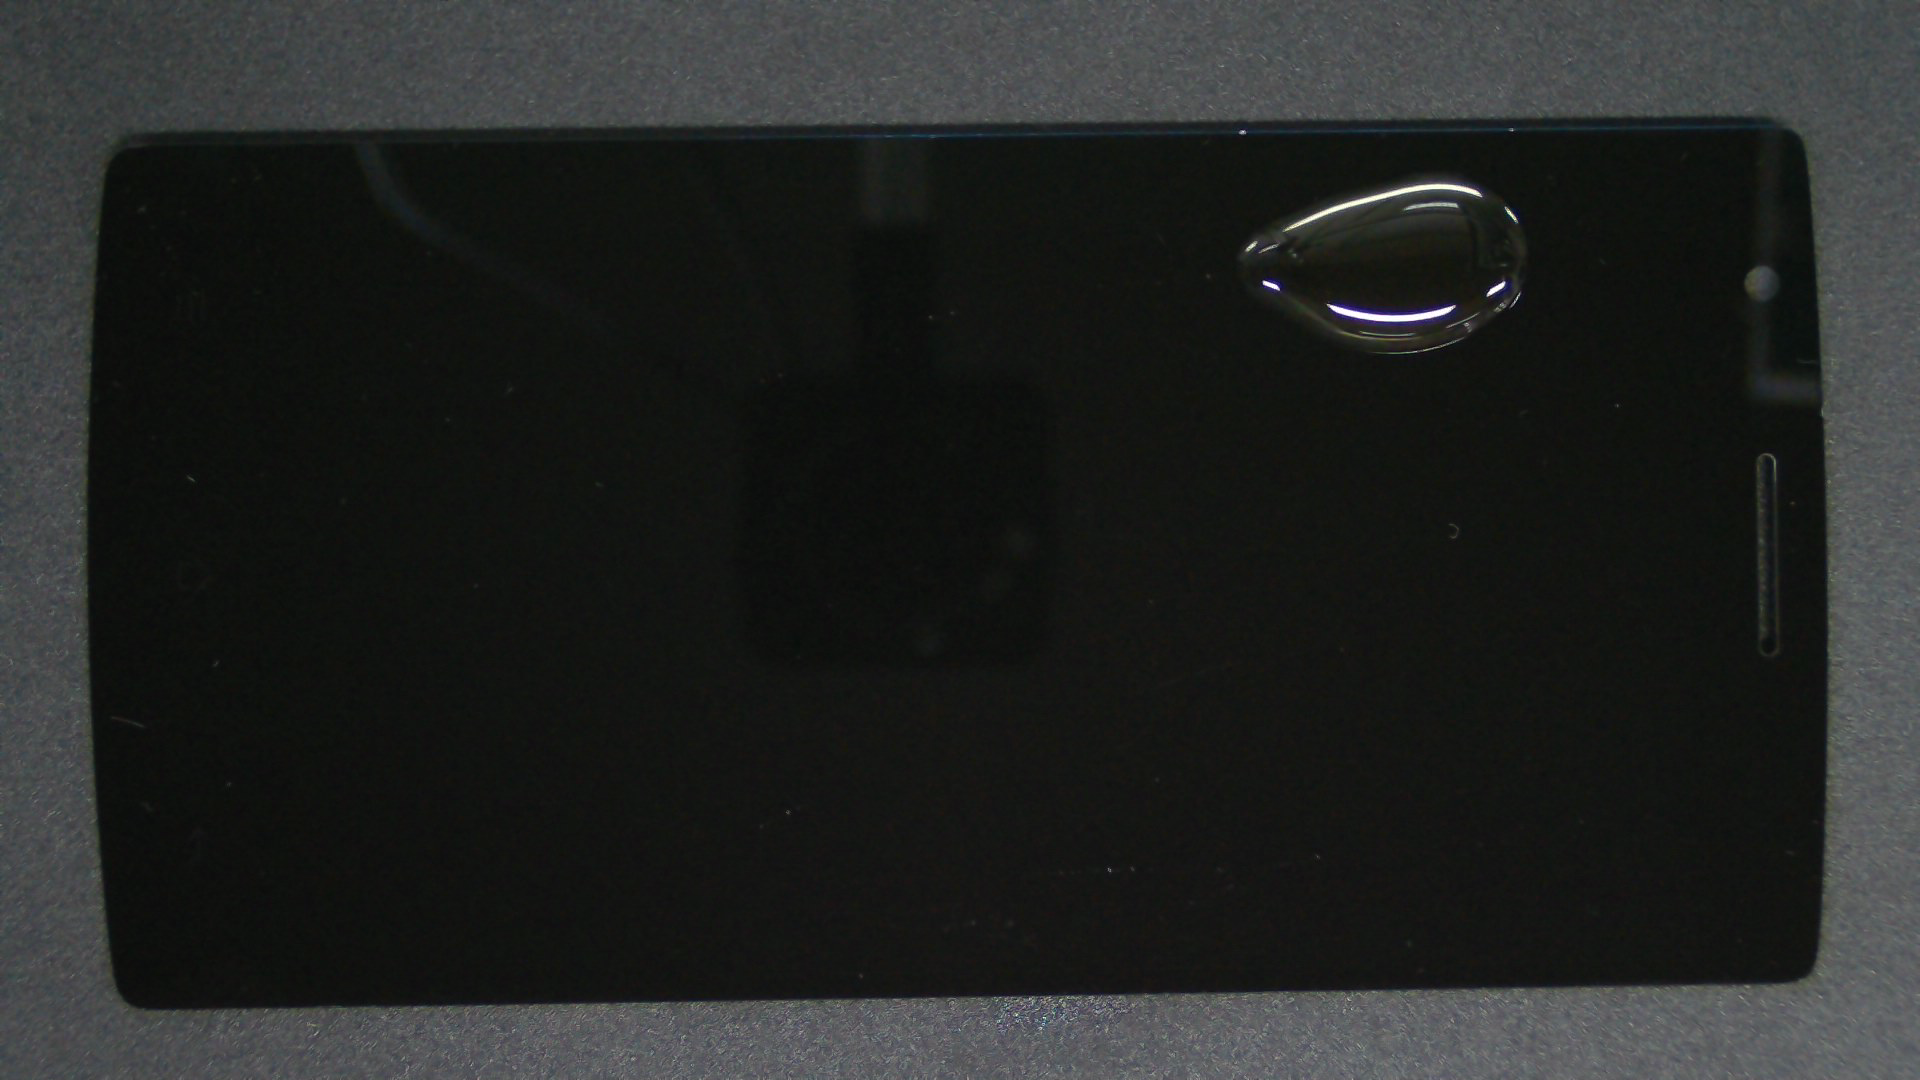defect: (1236, 171, 1528, 355)
